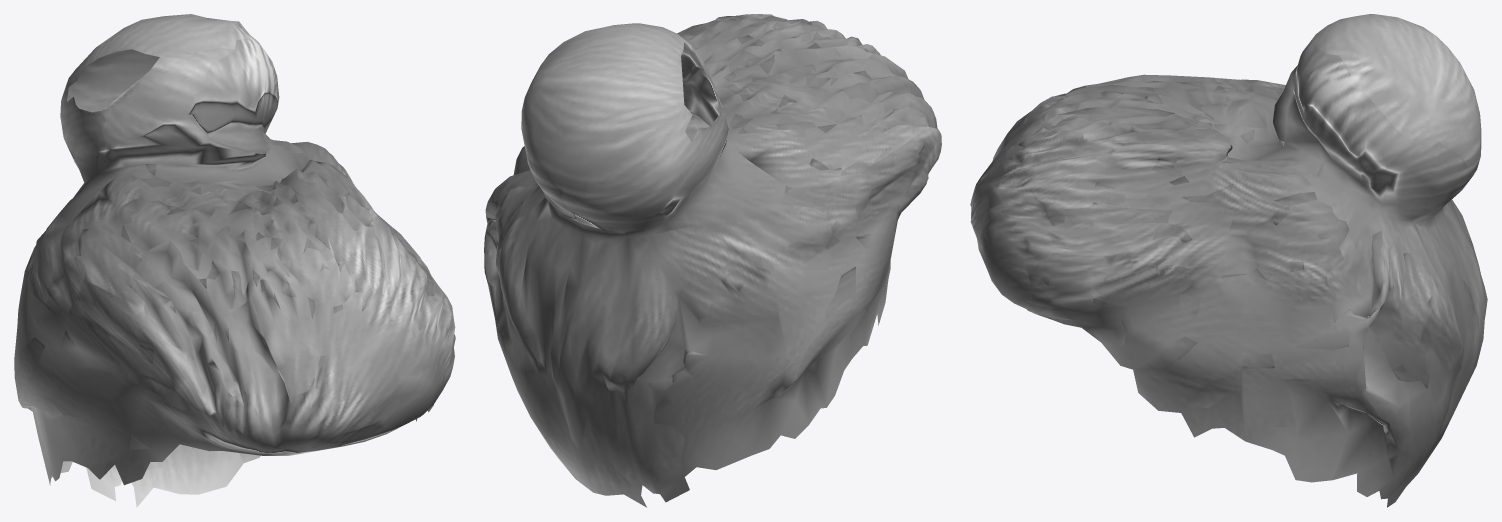
Rendered from man-bun.glb.
3 renders of one model, left to right at view 1: azimuth 30°, elevation 25°; view 2: azimuth 150°, elevation 25°; view 3: azimuth 270°, elevation 25°, orthographic. The views are drawn at different scales.
Parts seen in each view (by area): view 1: man-bun; view 2: man-bun; view 3: man-bun.
Boxes of the visible parts, x1,y1,x2,y2 form: man-bun: (14, 14, 455, 507); man-bun: (484, 14, 941, 507); man-bun: (970, 14, 1487, 507).
Bounding box in the file's own units: 0.1654 × 0.2157 × 0.2185.
1 material, 1 textured.
